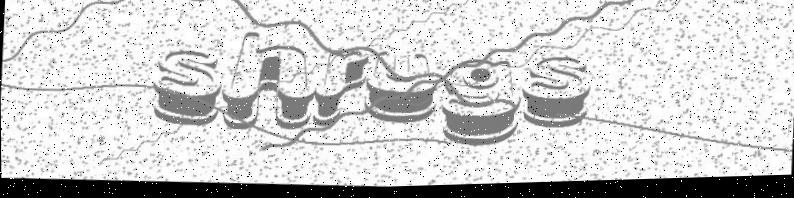g: (433, 56, 524, 152)
h: (224, 26, 318, 146)
r: (315, 42, 371, 134)
s: (144, 38, 227, 135), (519, 54, 595, 132)
u: (366, 48, 441, 133)
